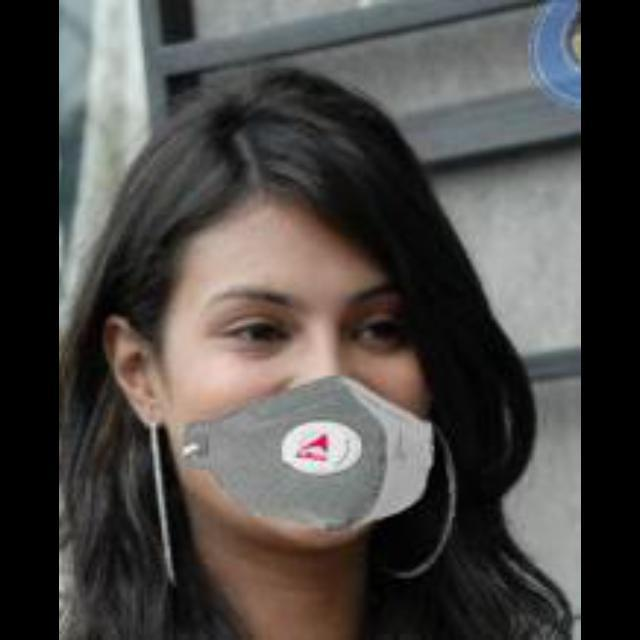suspicion: (104, 185, 468, 560)
